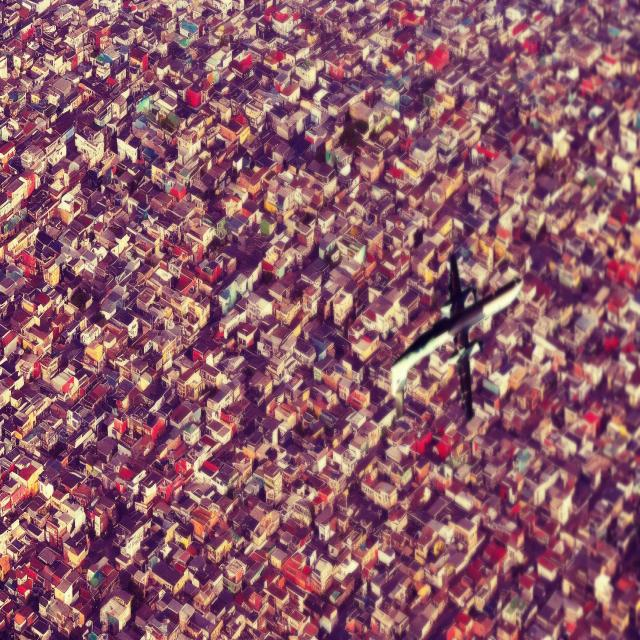airplane: (389, 251, 524, 421)
